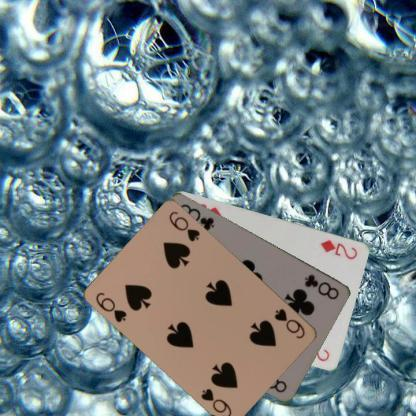2d: (318, 236, 360, 261)
6s: (93, 290, 129, 324), (272, 306, 306, 340)
8c: (301, 270, 341, 301)
